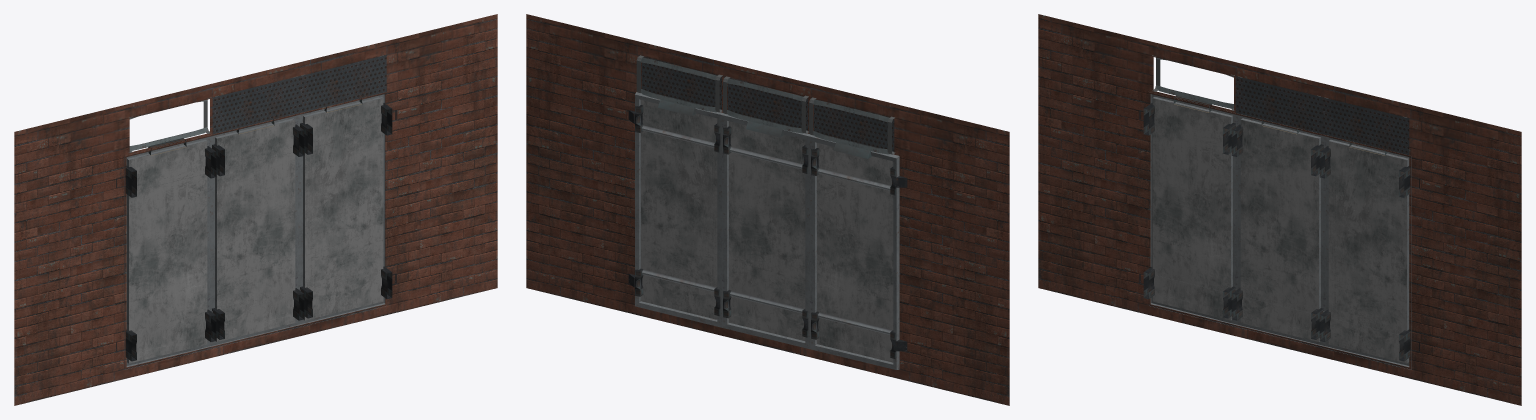
Rendered from ARC0910027.fbx.
3 views of the same model, side by side, from view 1: azimuth 30°, elevation 25°; view 2: azimuth 150°, elevation 25°; view 3: azimuth 330°, elevation 25° (orthographic).
Visible parts, largest first — view 1: smARC0910027; view 2: smARC0910027; view 3: smARC0910027.
Boxes of the visible parts, x1,y1,x2,y2 form: smARC0910027: (14,14,497,405); smARC0910027: (526,14,1009,405); smARC0910027: (1038,14,1521,405).
Size of the model in its own units: 554 by 300 by 21.85.
1 material, 1 textured.
